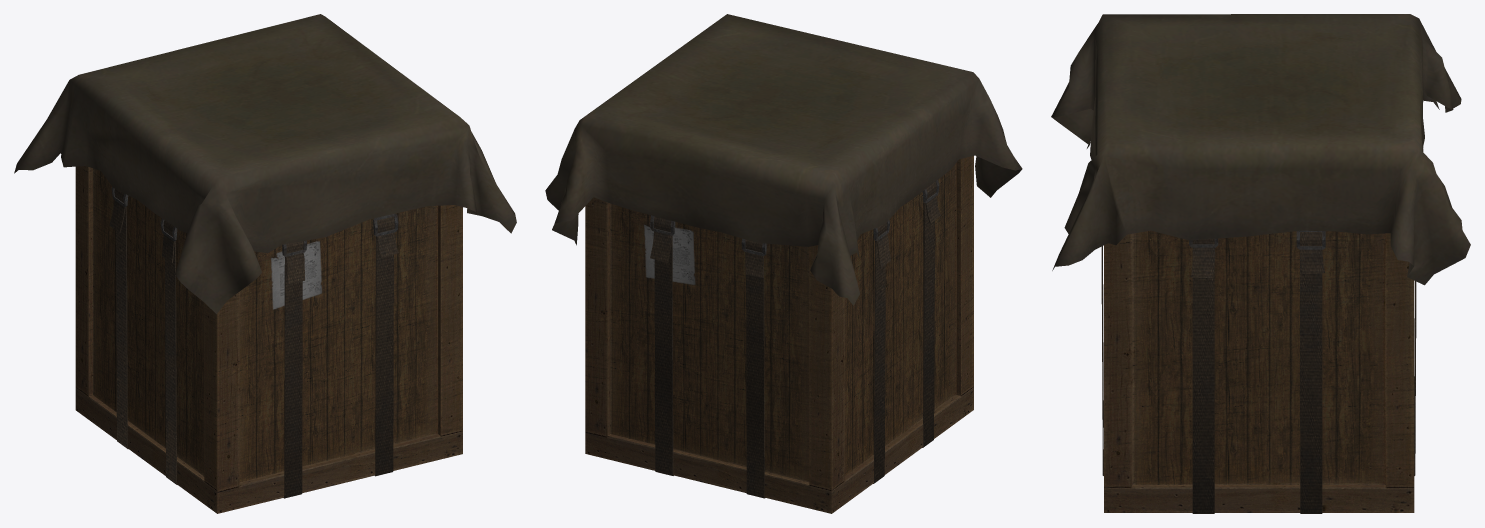
The model's file is wooden_crate_hx_4_2.dae.
3 views of the same model, side by side, from view 1: azimuth 30°, elevation 25°; view 2: azimuth 150°, elevation 25°; view 3: azimuth 270°, elevation 25° (orthographic). The views are drawn at different scales.
Parts seen in each view (by area): view 1: wooden_crate_hx_4_2; view 2: wooden_crate_hx_4_2; view 3: wooden_crate_hx_4_2.
Boxes of the visible parts, x1,y1,x2,y2 form: wooden_crate_hx_4_2: (14, 14, 516, 513); wooden_crate_hx_4_2: (545, 14, 1022, 513); wooden_crate_hx_4_2: (1051, 14, 1470, 513).
Size of the model in its own units: 1.89 by 1.89 by 1.84.
Materials: 4 (4 with a texture image).
